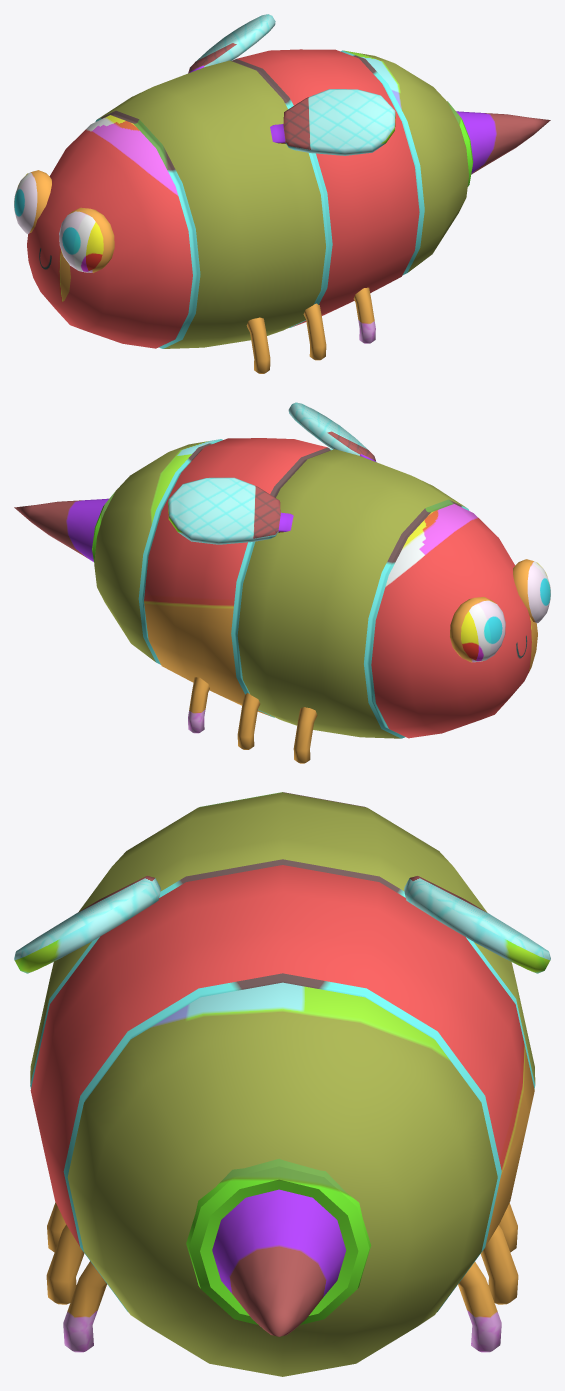
The model's file is Me_Bee01.fbx.
3 views of the same model, one above another, from view 1: azimuth 30°, elevation 25°; view 2: azimuth 150°, elevation 25°; view 3: azimuth 270°, elevation 25° (orthographic). The views are drawn at different scales.
Visible parts, largest first — view 1: Me_Bee01; view 2: Me_Bee01; view 3: Me_Bee01.
Part boxes in pixels (x1,y1,x2,y2): Me_Bee01: [14, 14, 550, 373]; Me_Bee01: [14, 402, 550, 763]; Me_Bee01: [14, 792, 550, 1376].
Bounding box in the file's own units: 119 × 56.92 × 60.1.
1 material, 1 textured.
